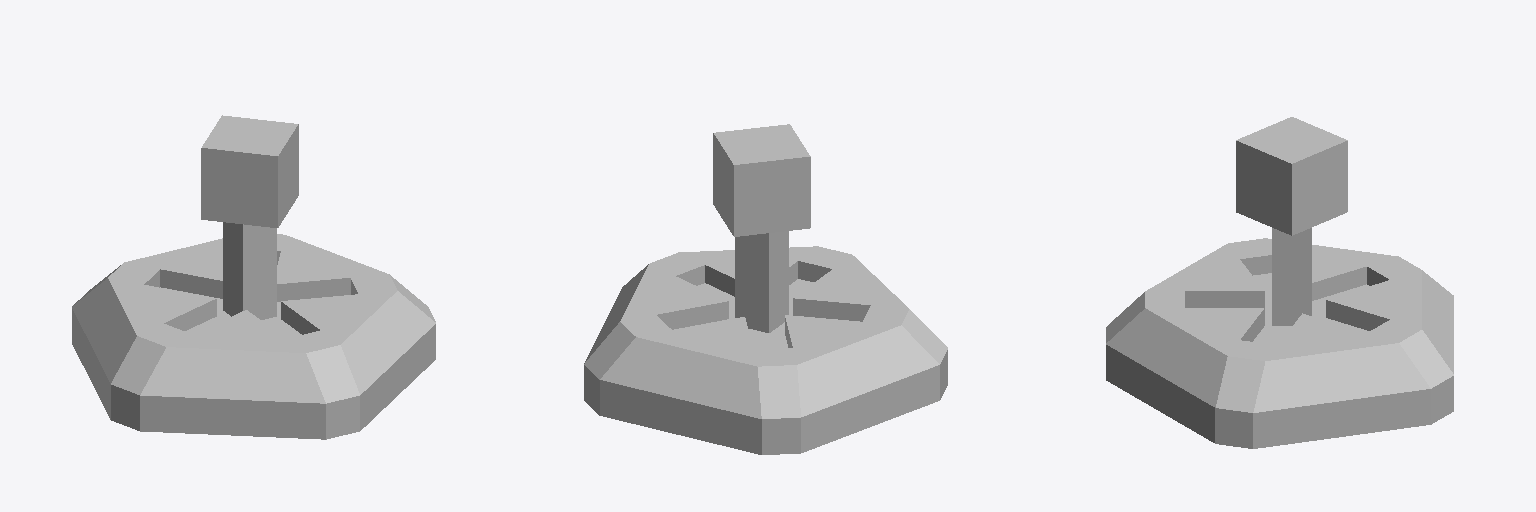
File: lever_6state_0.obj
3 renders of one model, left to right at view 1: azimuth 30°, elevation 25°; view 2: azimuth 150°, elevation 25°; view 3: azimuth 270°, elevation 25°, orthographic.
Parts seen in each view (by area): view 1: 6-STATE_Circle.003, LEVER_Cube.049; view 2: 6-STATE_Circle.003, LEVER_Cube.049; view 3: 6-STATE_Circle.003, LEVER_Cube.049.
Part boxes in pixels (x1,y1,x2,y2): 6-STATE_Circle.003: (72, 234, 435, 439); LEVER_Cube.049: (201, 115, 298, 319); 6-STATE_Circle.003: (584, 246, 947, 454); LEVER_Cube.049: (713, 124, 810, 332); 6-STATE_Circle.003: (1106, 238, 1453, 448); LEVER_Cube.049: (1236, 117, 1347, 325).
Bounding box in the file's own units: 0.5776 × 0.4021 × 0.5493.